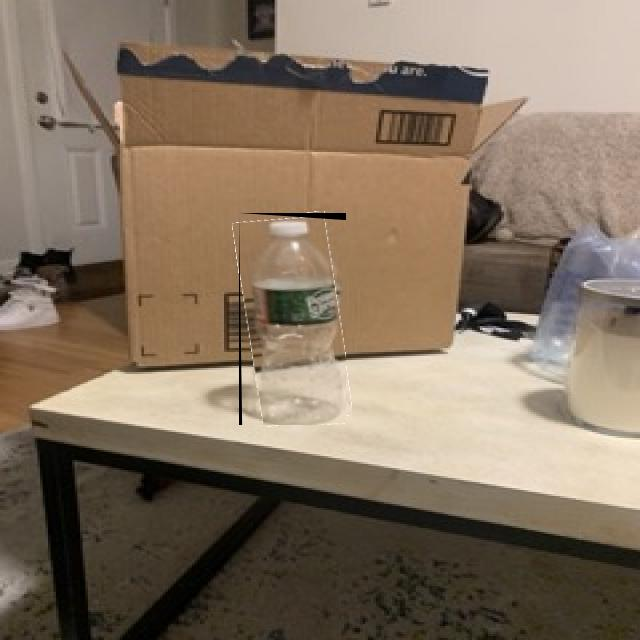water_bottle: (239, 213, 346, 425)
